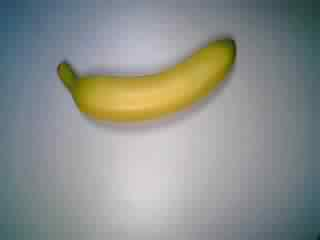banana: (53, 36, 249, 129)
